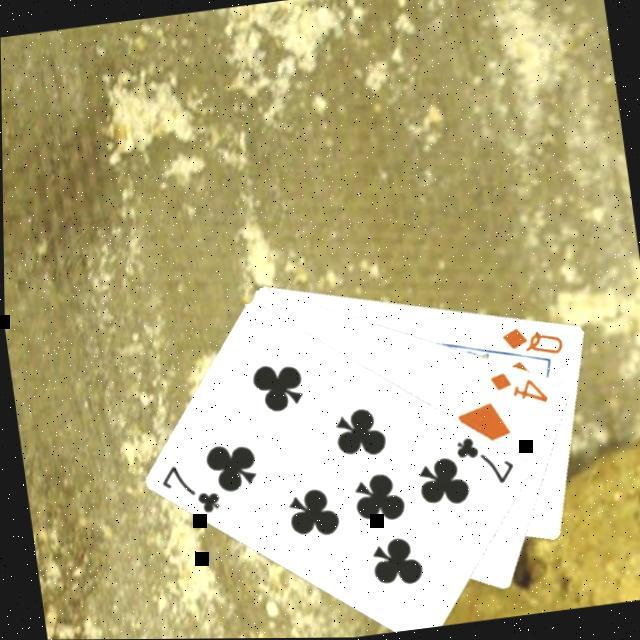4D: (484, 362, 552, 411)
7C: (154, 455, 224, 521), (450, 426, 520, 491)
QD: (497, 317, 568, 363)
